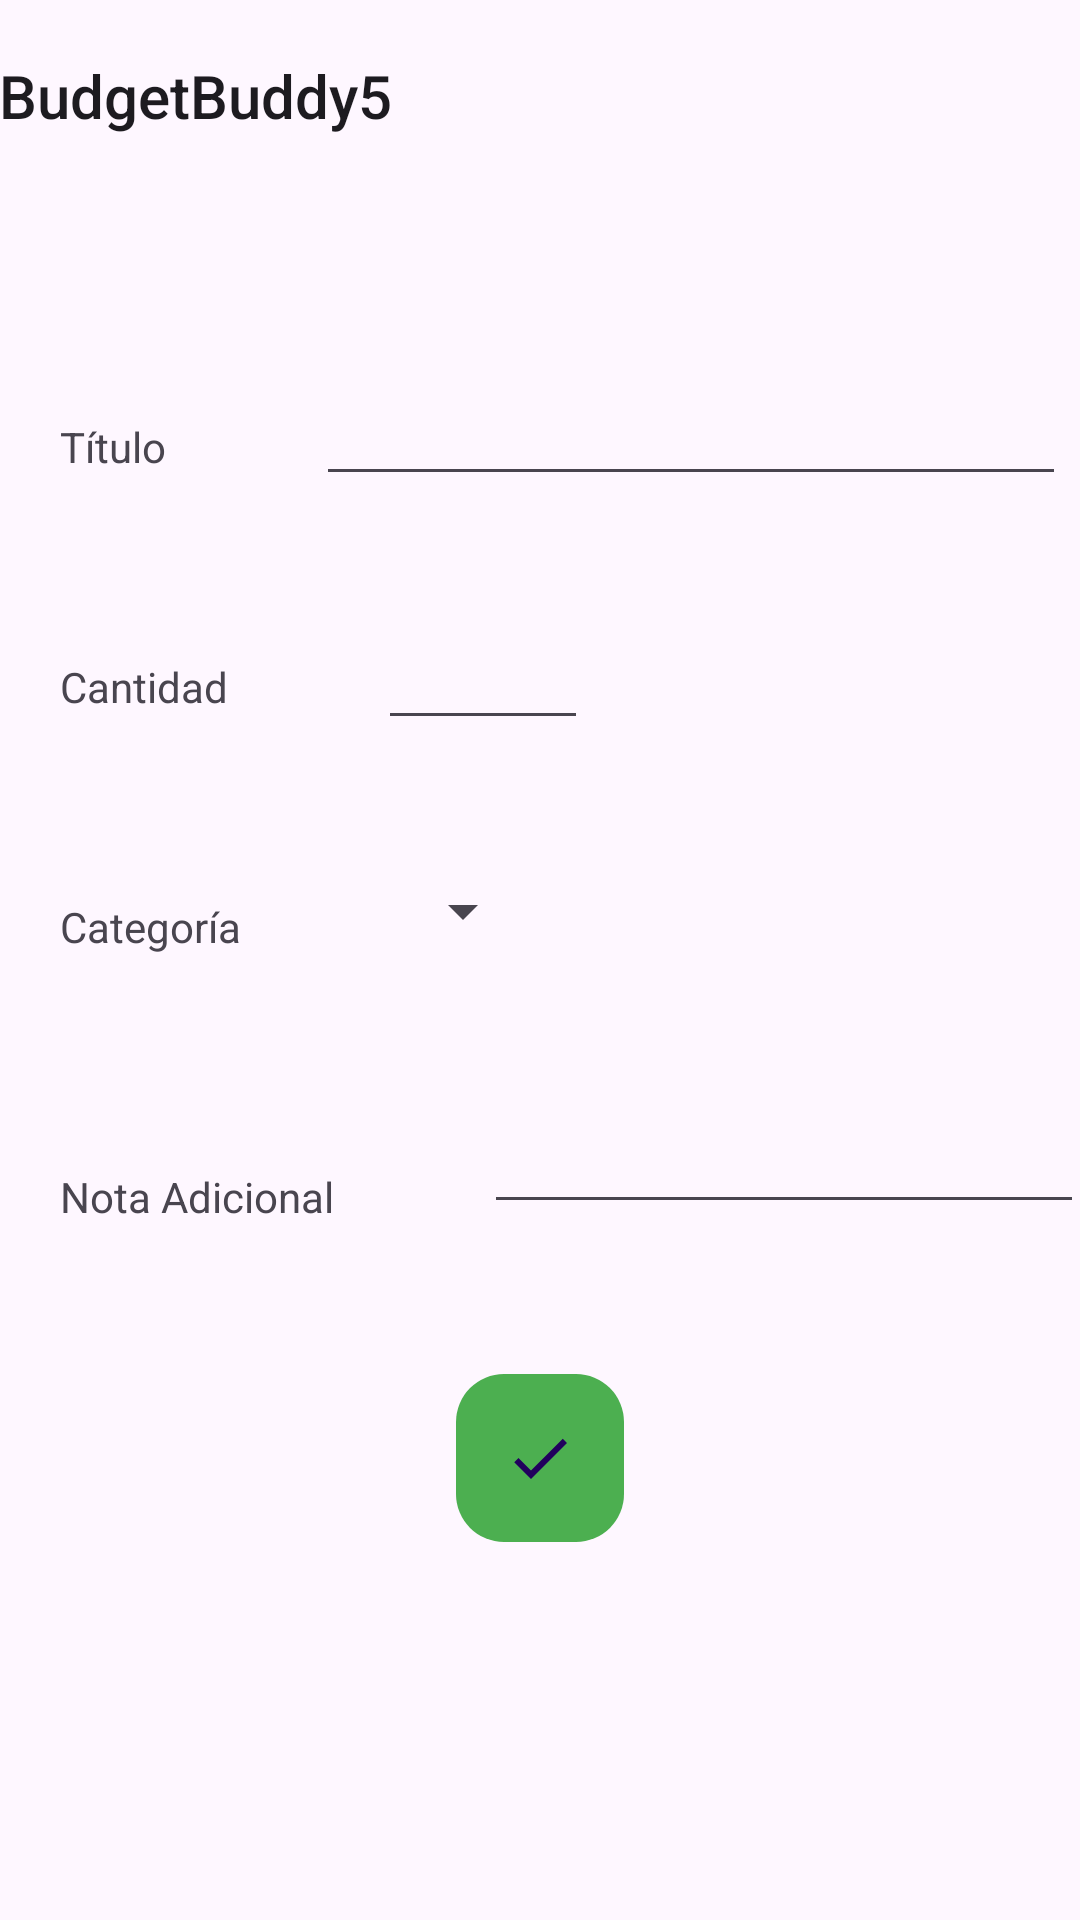

Where to tap for icons on this 1080px x 1920px app screen, as point (x, y):
check: point (540, 1458)
